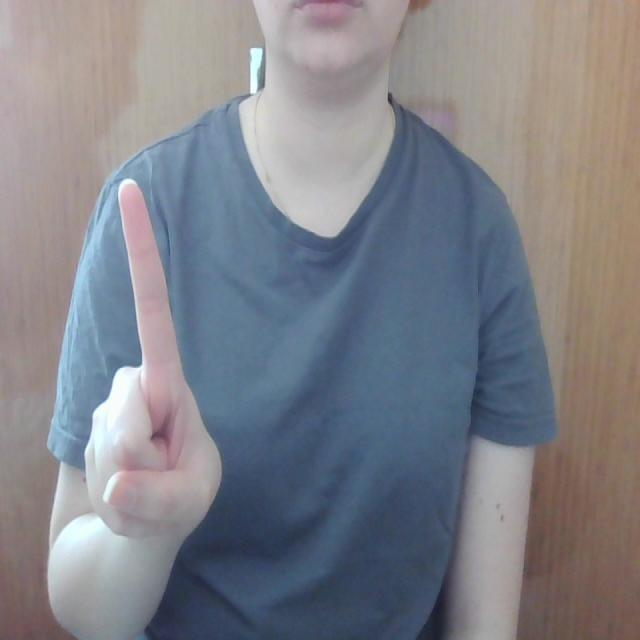Hayir: (70, 143, 226, 545)
